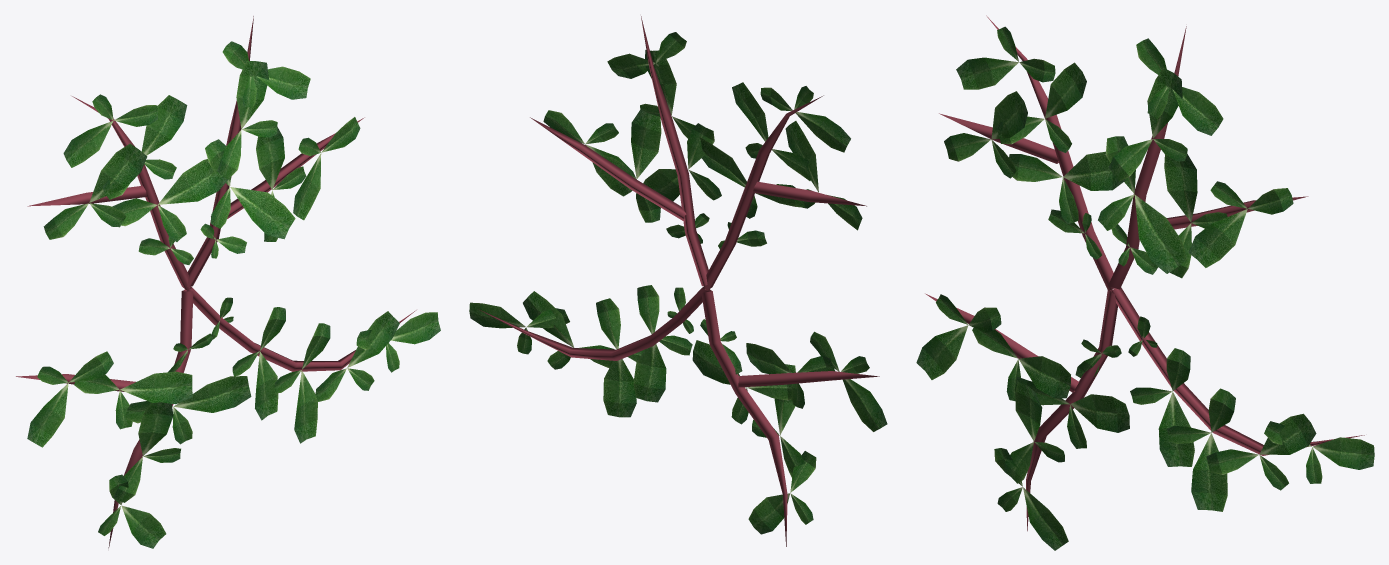
Rendered from portucala_02.obj.
The picture shows the model from 3 angles, left to right: view 1: azimuth 30°, elevation 25°; view 2: azimuth 150°, elevation 25°; view 3: azimuth 330°, elevation 25°; orthographic projection. The views are drawn at different scales.
Parts seen in each view (by area): view 1: portucala.001; view 2: portucala.001; view 3: portucala.001.
Boxes of the visible parts, box(x1,y1,x2,y2) form: portucala.001: box(16, 16, 440, 548); portucala.001: box(469, 16, 887, 546); portucala.001: box(916, 15, 1374, 550).
Bounding box in the file's own units: 0.2873 × 0.3288 × 0.0369.
